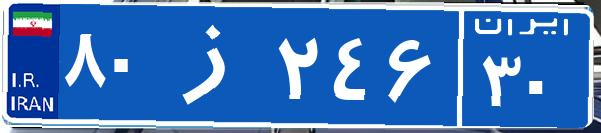0: (110, 28, 158, 105), (525, 38, 570, 115)
2: (273, 28, 330, 110)
3: (475, 38, 525, 113)
4: (330, 28, 385, 110)
6: (385, 28, 445, 110)
8: (57, 26, 110, 107)
ز: (158, 15, 273, 115)
